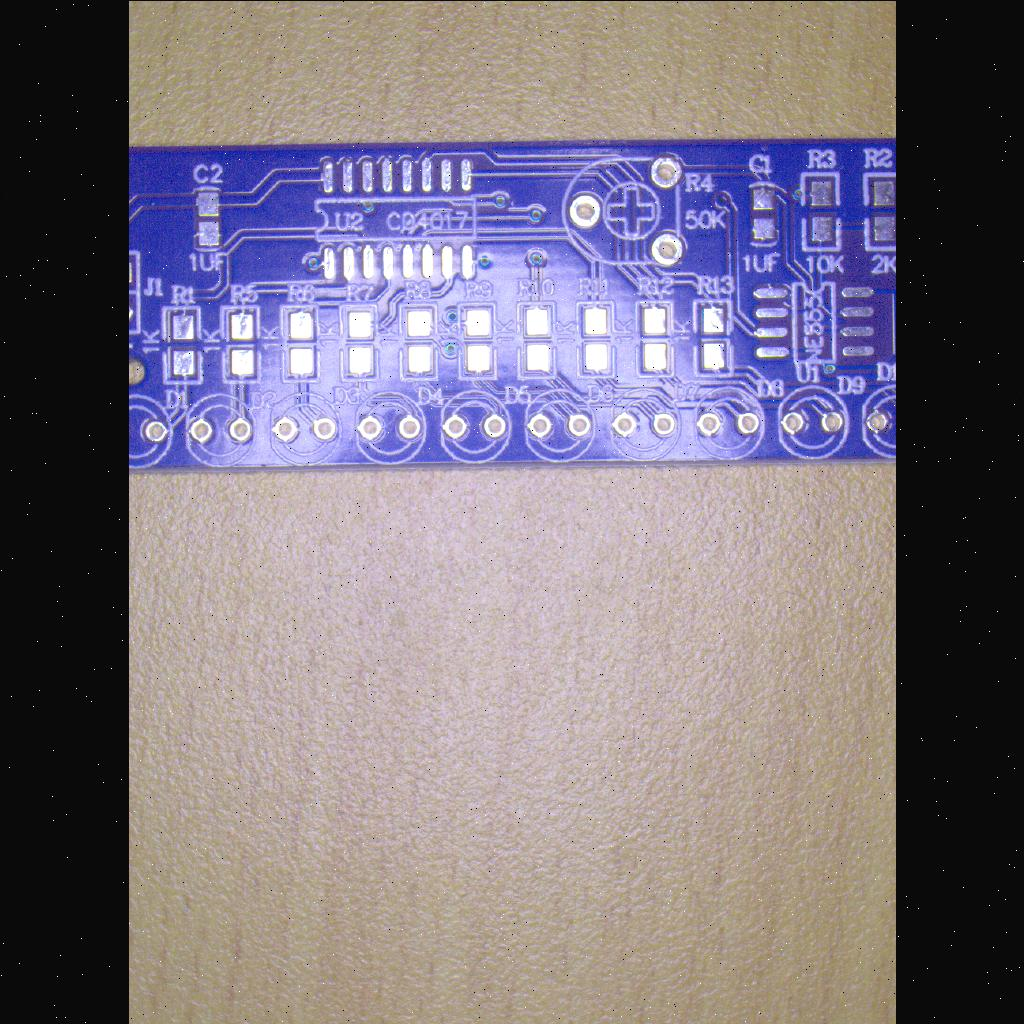NG: (307, 148, 485, 290), (746, 272, 876, 366), (512, 295, 562, 383), (216, 296, 262, 388), (158, 302, 206, 386), (336, 298, 382, 384), (454, 296, 500, 382), (394, 300, 440, 384), (278, 300, 322, 386), (573, 296, 617, 382), (798, 168, 842, 254), (690, 296, 736, 378), (632, 298, 676, 382), (858, 166, 896, 252), (188, 183, 224, 255), (745, 176, 779, 248)
